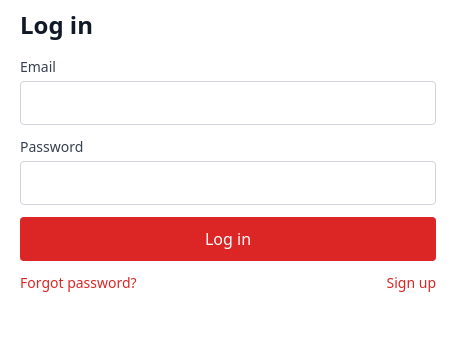
Test case: Auth › invalid credentials show inline error
The image size is (457, 341).
In the field labelled "Email": x=228, y=103 [20,81,436,125], type "a@b.com"
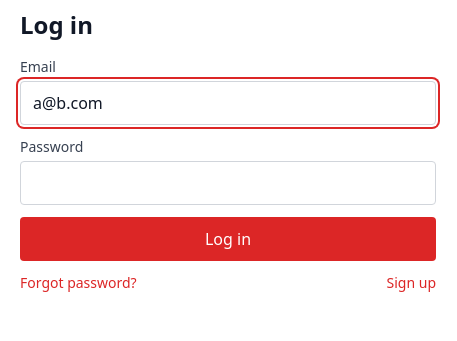
In the password field labelled "Password": x=228, y=183 [20,161,436,205], type "wrong"
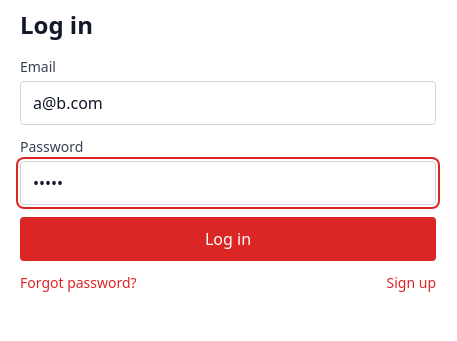
Click the button "Log in": x=228, y=239 [20,217,436,261]
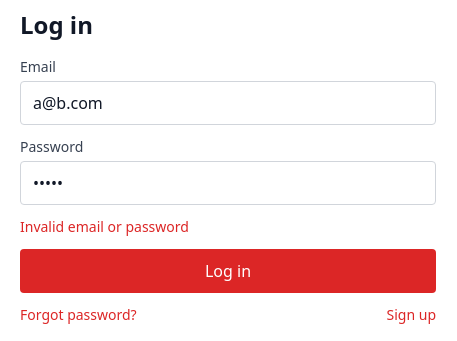
Expected: the text "Invalid email or password" is shown, [20,217,189,236]
